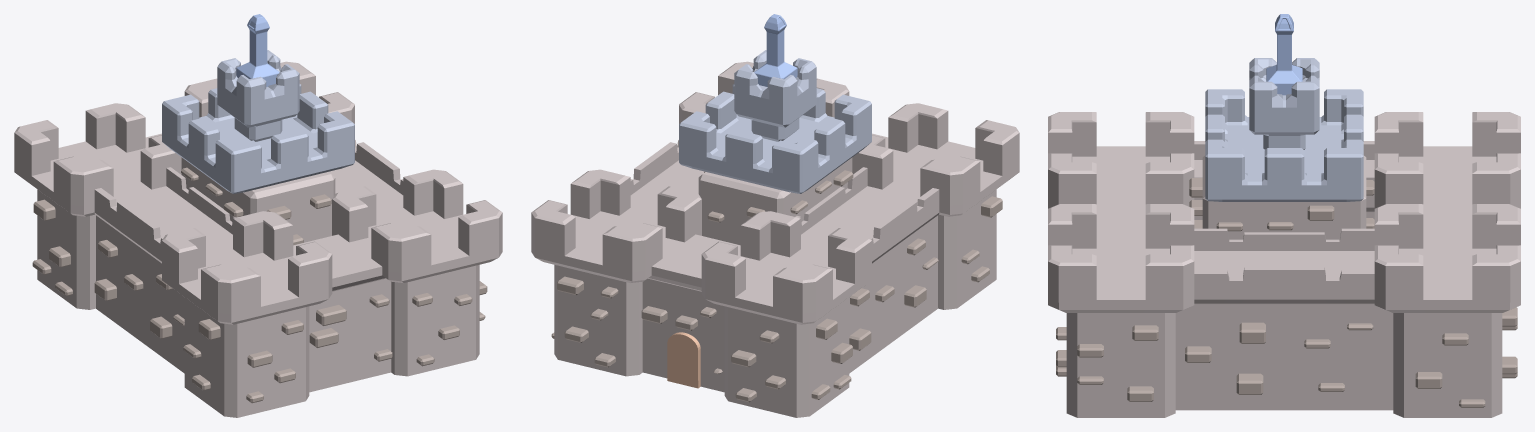
Rendered from castleModel.fbx.
3 renders of one model, left to right at view 1: azimuth 30°, elevation 25°; view 2: azimuth 150°, elevation 25°; view 3: azimuth 270°, elevation 25°, orthographic. The views are drawn at different scales.
Visible parts, largest first — view 1: base, decor, bricks, decor_2, interior_base, tower; view 2: base, decor, bricks, decor_2, interior_base, door, tower; view 3: base, decor, bricks, decor_2, interior_base, tower.
Part boxes in pixels (left/top/right/bottom): base: left=14, top=61, right=502, bottom=417; decor: left=162, top=84, right=354, bottom=193; bricks: left=32, top=167, right=487, bottom=403; decor_2: left=217, top=50, right=299, bottom=141; interior_base: left=181, top=157, right=335, bottom=242; tower: left=236, top=14, right=279, bottom=86; base: left=531, top=61, right=1019, bottom=417; decor: left=679, top=84, right=871, bottom=193; bricks: left=551, top=170, right=1002, bottom=402; decor_2: left=734, top=50, right=816, bottom=141; interior_base: left=698, top=157, right=852, bottom=245; door: left=667, top=332, right=700, bottom=388; tower: left=754, top=14, right=797, bottom=86; base: left=1048, top=112, right=1520, bottom=417; decor: left=1205, top=89, right=1363, bottom=201; bricks: left=1056, top=178, right=1517, bottom=407; decor_2: left=1249, top=58, right=1319, bottom=149; interior_base: left=1202, top=155, right=1366, bottom=239; tower: left=1266, top=14, right=1302, bottom=95.
Size of the model in its own units: 668 by 675 by 868.
